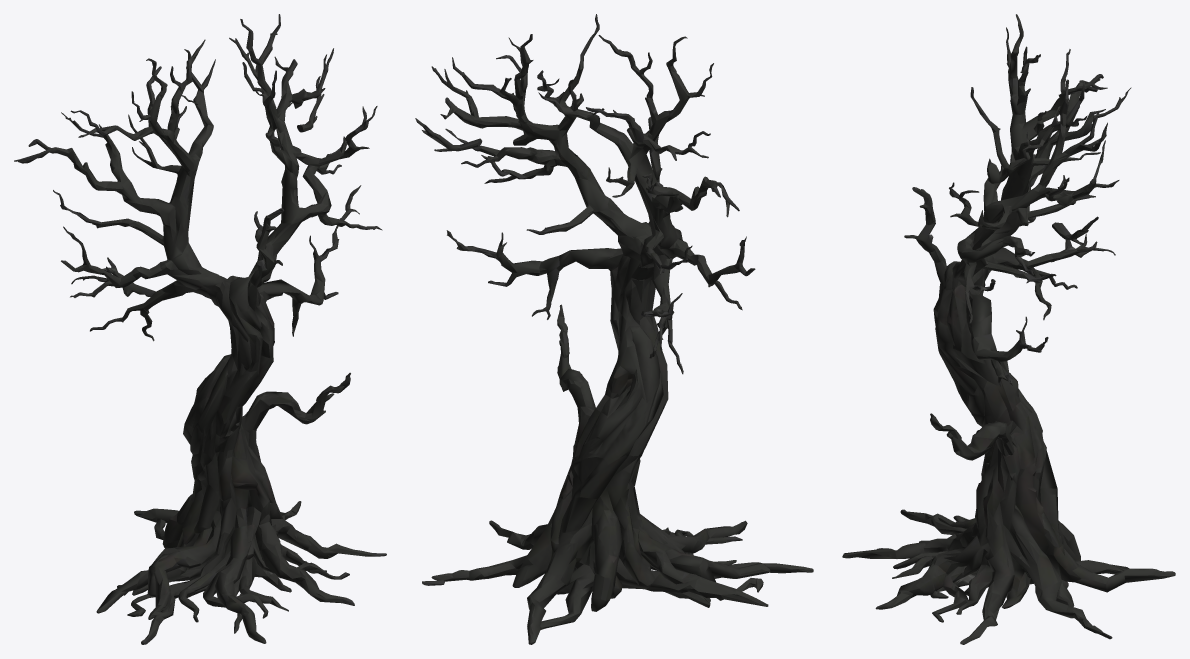
The model's file is mx_pr_dead_tree.glb.
3 views of the same model, side by side, from view 1: azimuth 30°, elevation 25°; view 2: azimuth 150°, elevation 25°; view 3: azimuth 270°, elevation 25° (orthographic). The views are drawn at different scales.
Size of the model in its own units: 1.16 by 1.9 by 1.09.
Materials: 1 (1 with a texture image).
